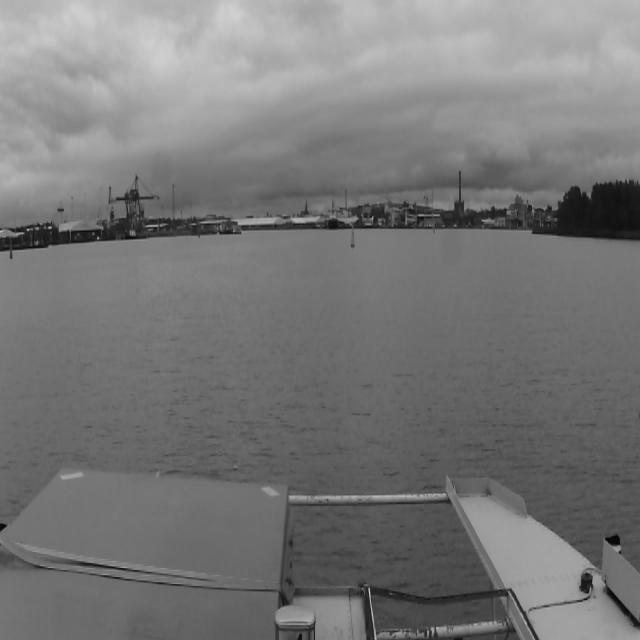buoy: (350, 223, 356, 248), (10, 241, 12, 259), (198, 230, 200, 238), (433, 225, 435, 233)
ship: (327, 199, 339, 232)
